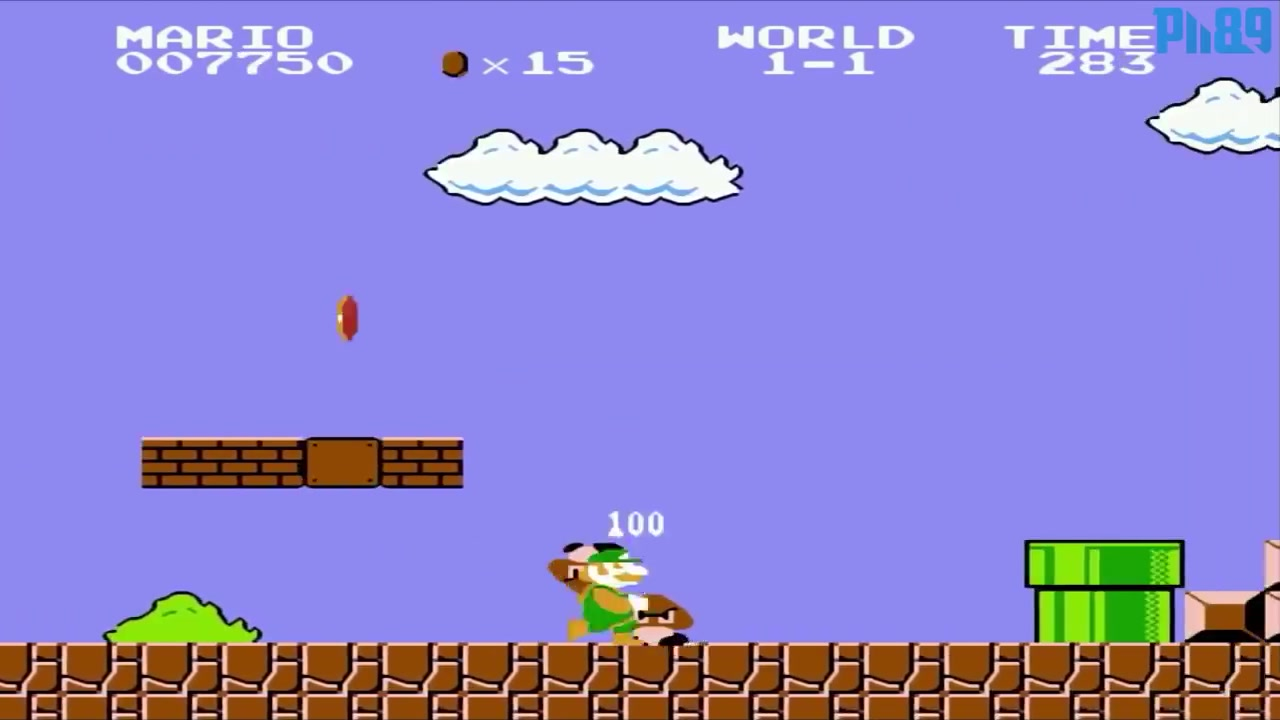mario: (571, 535, 653, 649)
